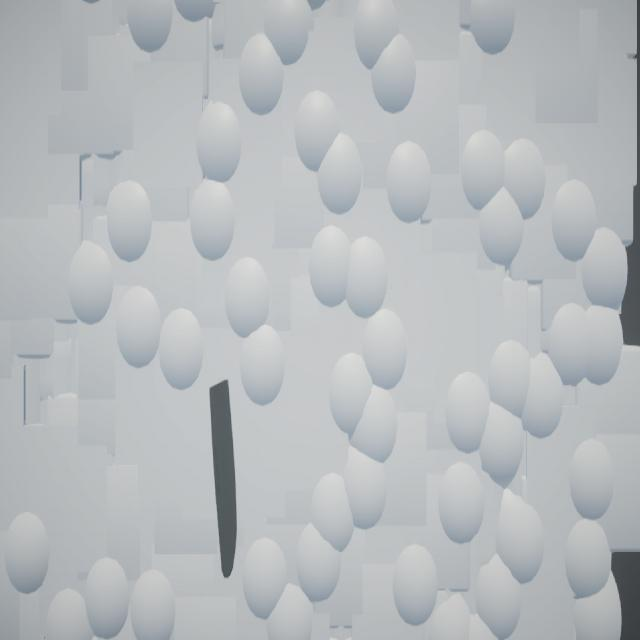top_knife: (211, 381, 238, 580)
